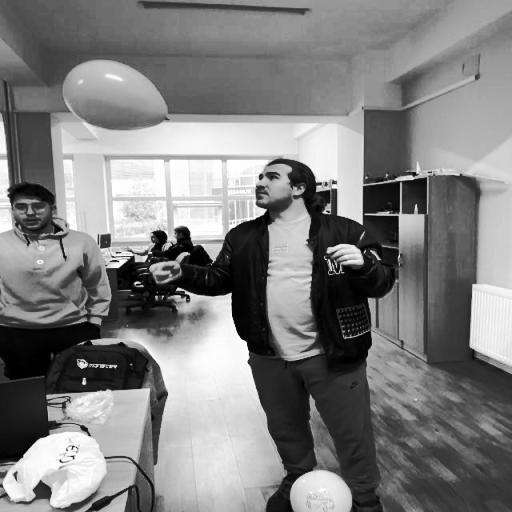balloon: (63, 60, 172, 130), (294, 464, 348, 512)
